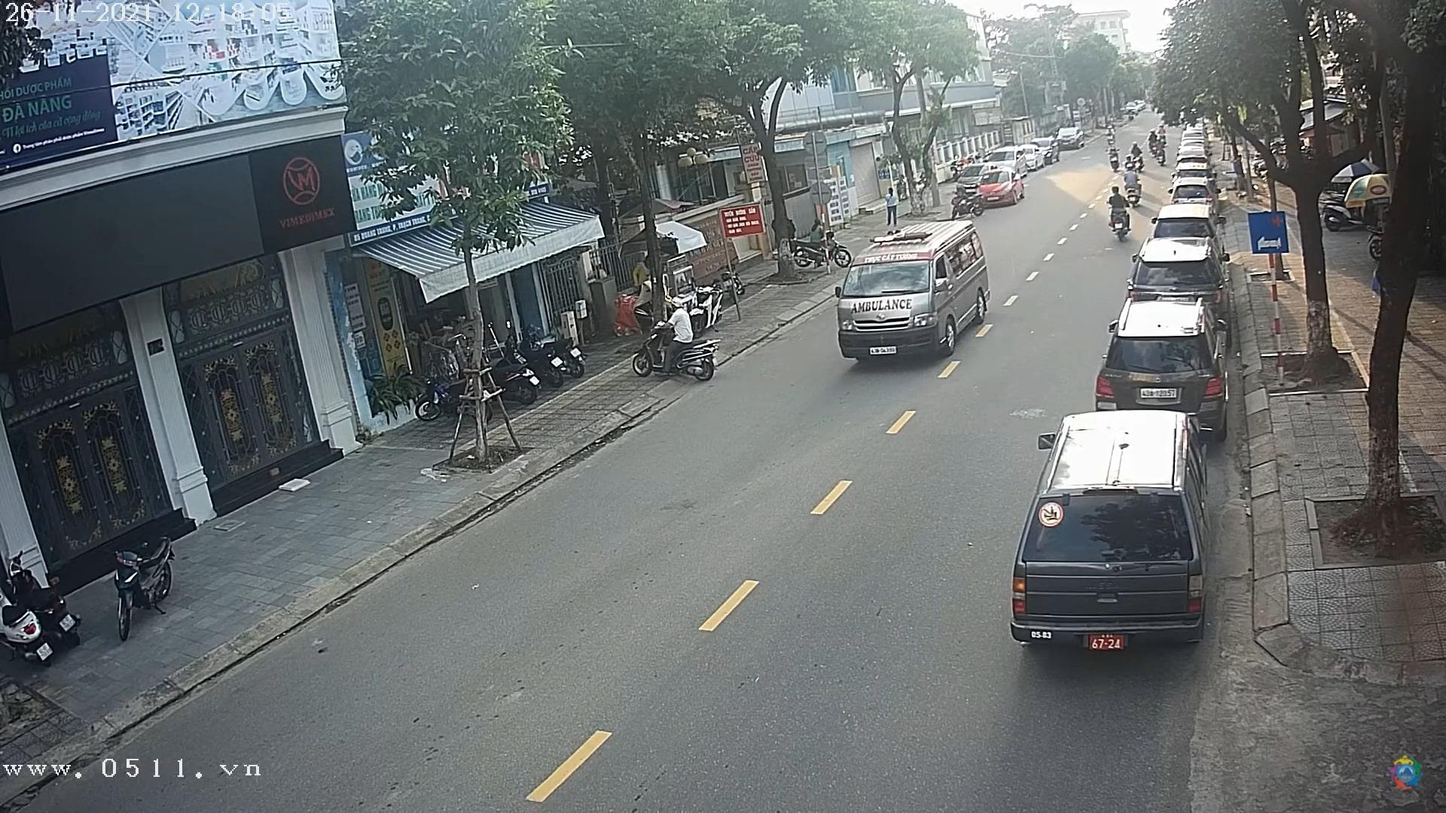car: (1013, 413, 1206, 647), (831, 220, 994, 363), (1094, 299, 1229, 418), (1133, 236, 1223, 300), (1142, 204, 1216, 254), (975, 166, 1025, 205), (1169, 183, 1211, 205), (1170, 157, 1210, 178), (1059, 125, 1088, 147)
motorbike: (1112, 202, 1132, 244)
